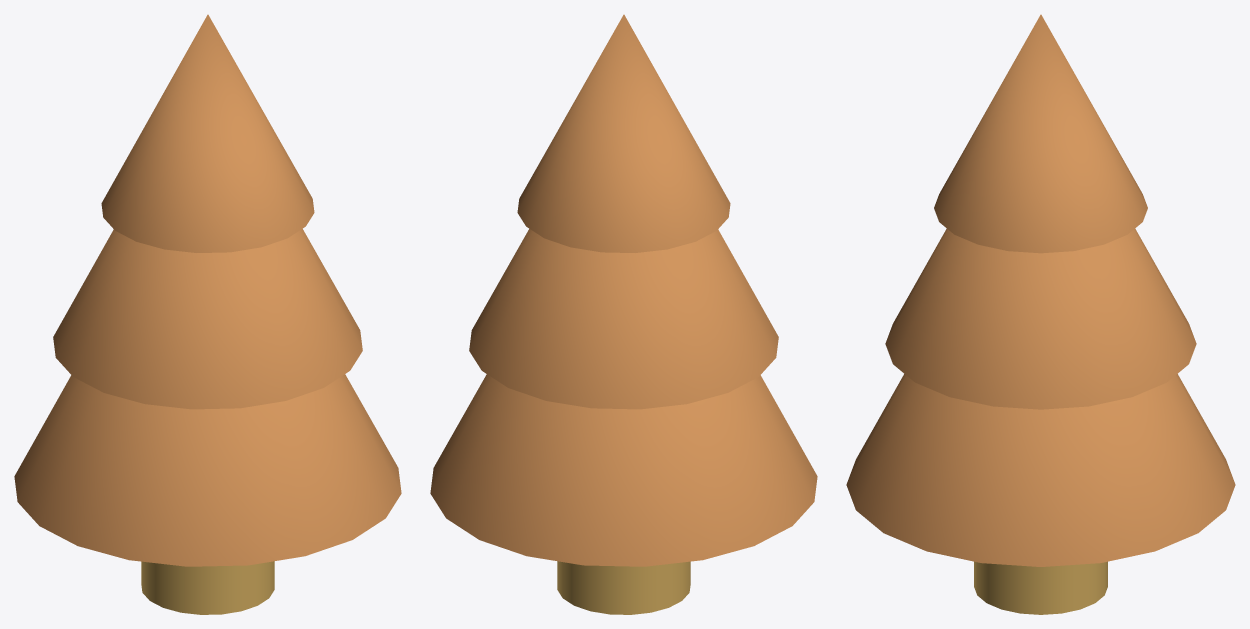
The model's file is pinheiro_laranja.fbx.
3 renders of one model, left to right at view 1: azimuth 30°, elevation 25°; view 2: azimuth 150°, elevation 25°; view 3: azimuth 270°, elevation 25°, orthographic.
Parts seen in each view (by area): view 1: arvore3_15, arvore3_14, arvore3_13, arvore24; view 2: arvore3_15, arvore3_14, arvore3_13, arvore24; view 3: arvore3_15, arvore3_14, arvore3_13, arvore24.
Part boxes in pixels (x1,y1,x2,y2): arvore3_15: (14, 374, 401, 566); arvore3_14: (53, 229, 362, 409); arvore3_13: (101, 14, 314, 252); arvore24: (141, 561, 274, 614); arvore3_15: (430, 374, 817, 566); arvore3_14: (469, 229, 778, 409); arvore3_13: (517, 14, 730, 252); arvore24: (557, 561, 690, 614); arvore3_15: (846, 374, 1235, 566); arvore3_14: (885, 228, 1196, 409); arvore3_13: (934, 14, 1147, 253); arvore24: (974, 561, 1107, 614).
Bounding box in the file's own units: 1.96 × 3.18 × 1.96.
